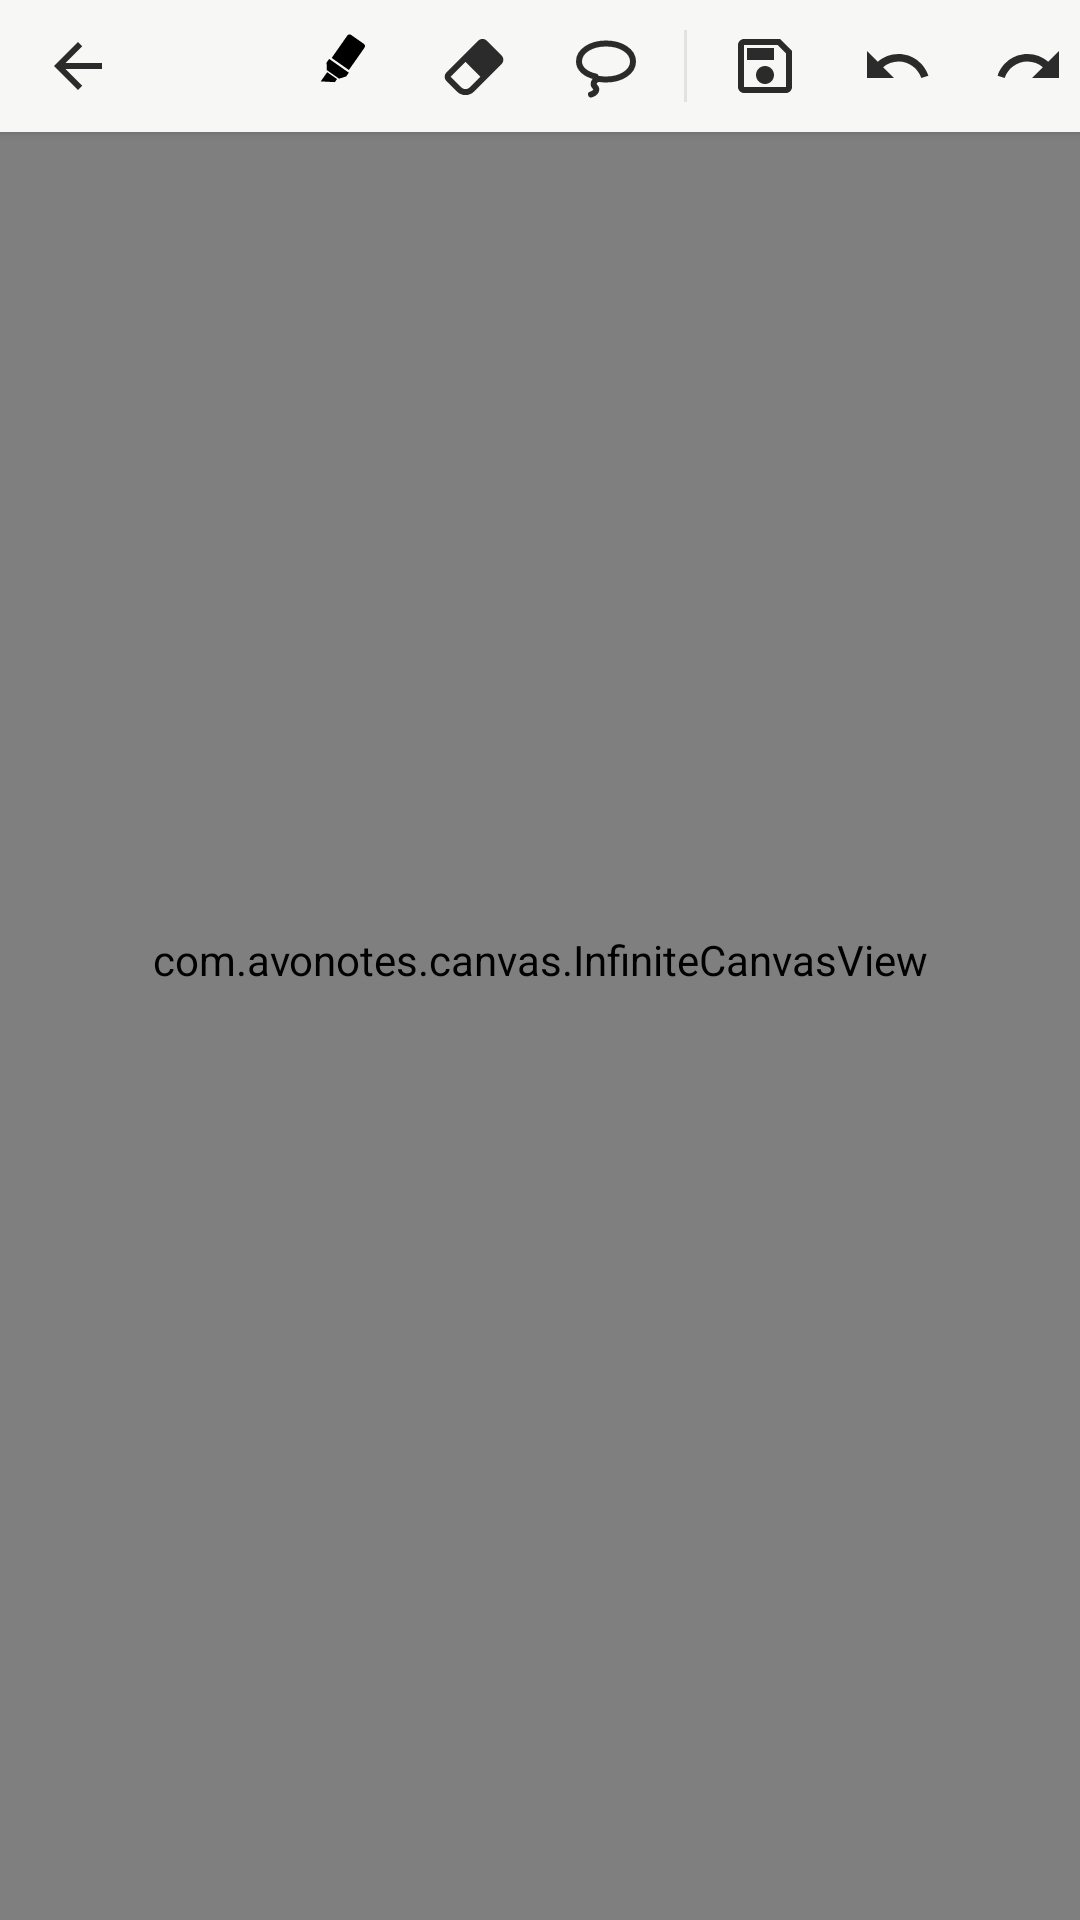

Named icons in this screenshot (1080×1920) and their bounding boxes, (x1, y1, x2, y2):
Back: (54, 42, 102, 90)
Eraser: (444, 39, 504, 95)
Highlighter: (321, 34, 365, 83)
Lasso select: (576, 40, 636, 98)
Save: (738, 39, 792, 93)
Undo: (867, 51, 929, 78)
